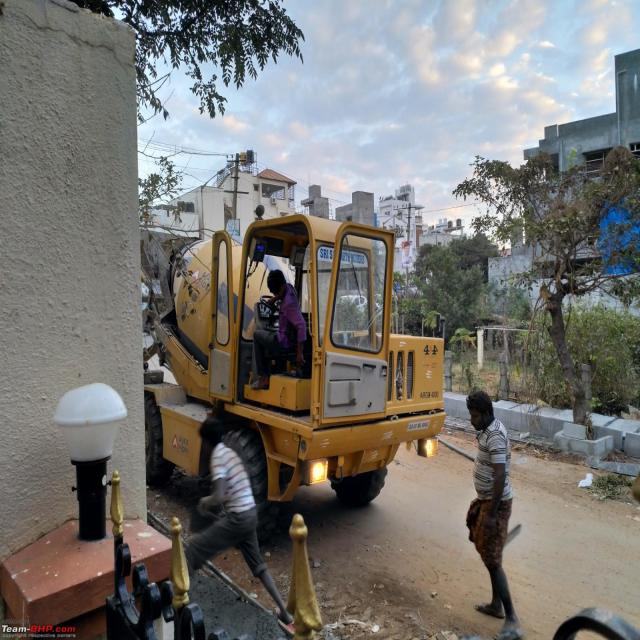truck: (144, 213, 445, 535)
